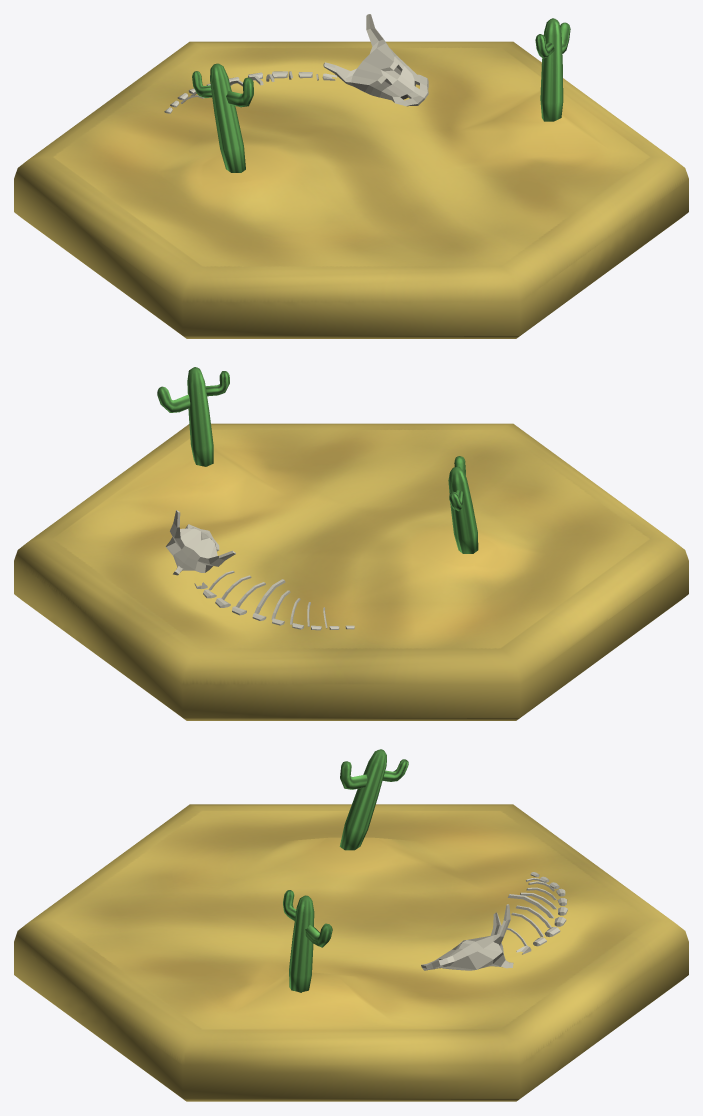
Rendered from Resource_Desert.gltf.
3 renders of one model, top to bottom at view 1: azimuth 30°, elevation 25°; view 2: azimuth 150°, elevation 25°; view 3: azimuth 270°, elevation 25°, orthographic.
Parts seen in each view (by area): view 1: Desert; view 2: Desert; view 3: Desert.
Boxes of the visible parts, x1,y1,x2,y2 form: Desert: [14, 14, 688, 338]; Desert: [14, 367, 688, 720]; Desert: [14, 749, 688, 1101].
Bounding box in the file's own units: 1.73 × 0.5657 × 2.
1 material, 1 textured.
